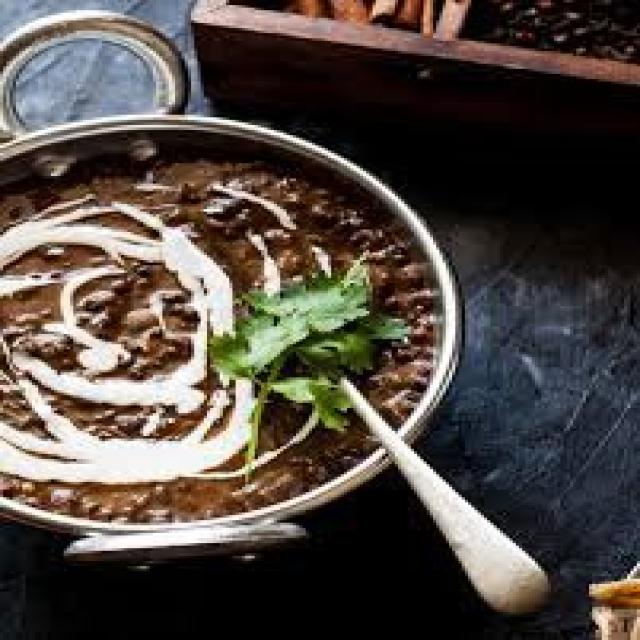dal_makhani: (0, 120, 459, 556)
